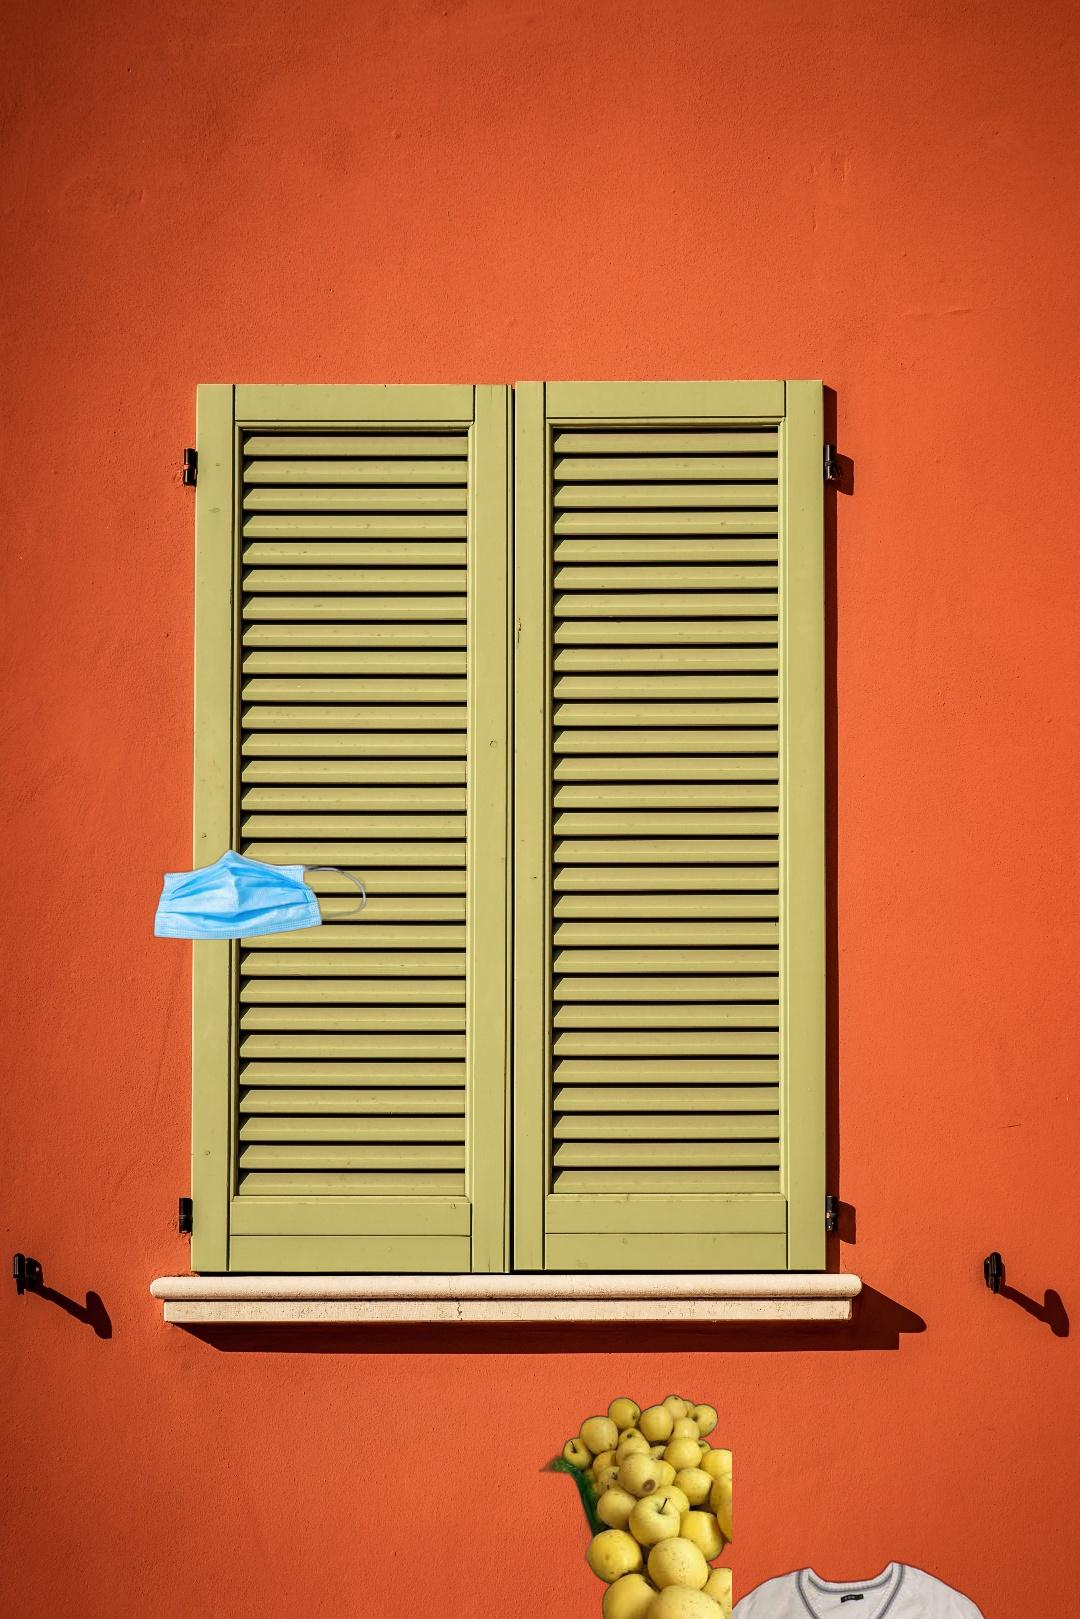biological: (538, 1392, 732, 1619)
clothes: (670, 1556, 1031, 1619)
trash: (115, 847, 369, 943)
